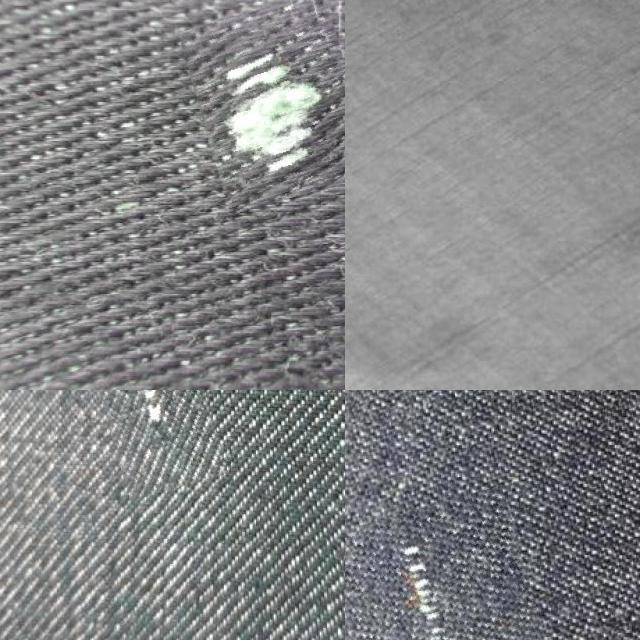Thread_other: (190, 0, 345, 205), (345, 496, 544, 640), (90, 390, 216, 494)
